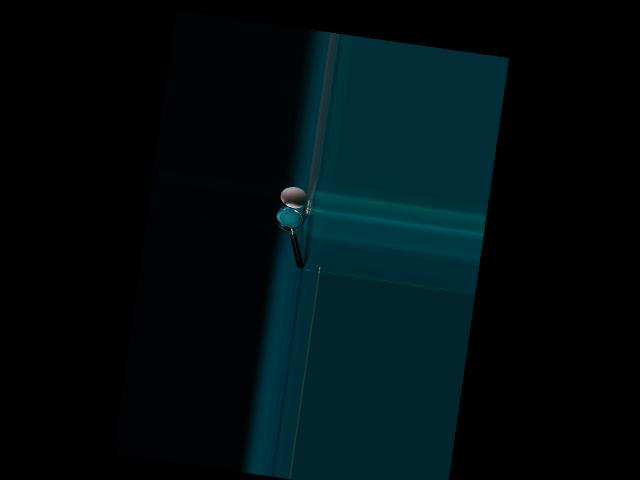egg: (279, 184, 308, 209)
